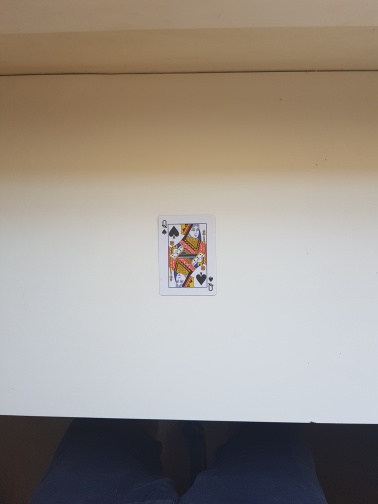queen: (156, 214, 219, 298)
